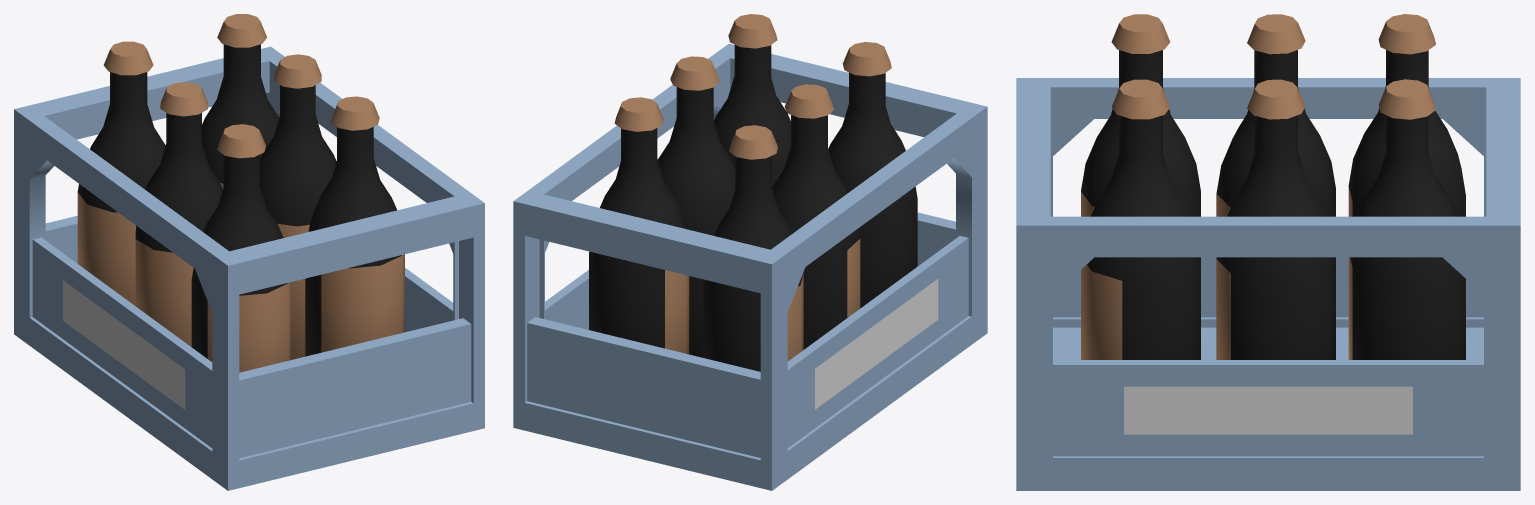
Rendered from cc0-bottles-lod0.glb.
3 renders of one model, left to right at view 1: azimuth 30°, elevation 25°; view 2: azimuth 150°, elevation 25°; view 3: azimuth 270°, elevation 25°, orthographic. The views are drawn at different scales.
Parts seen in each view (by area): view 1: part_0; view 2: part_0; view 3: part_0.
Boxes of the visible parts, left/top/right/bottom form: part_0: left=14, top=14, right=484, bottom=490; part_0: left=513, top=14, right=987, bottom=490; part_0: left=1016, top=14, right=1520, bottom=490.
Bounding box in the file's own units: 0.9032 × 1.02 × 1.3.
Materials: 1 (1 with a texture image).
